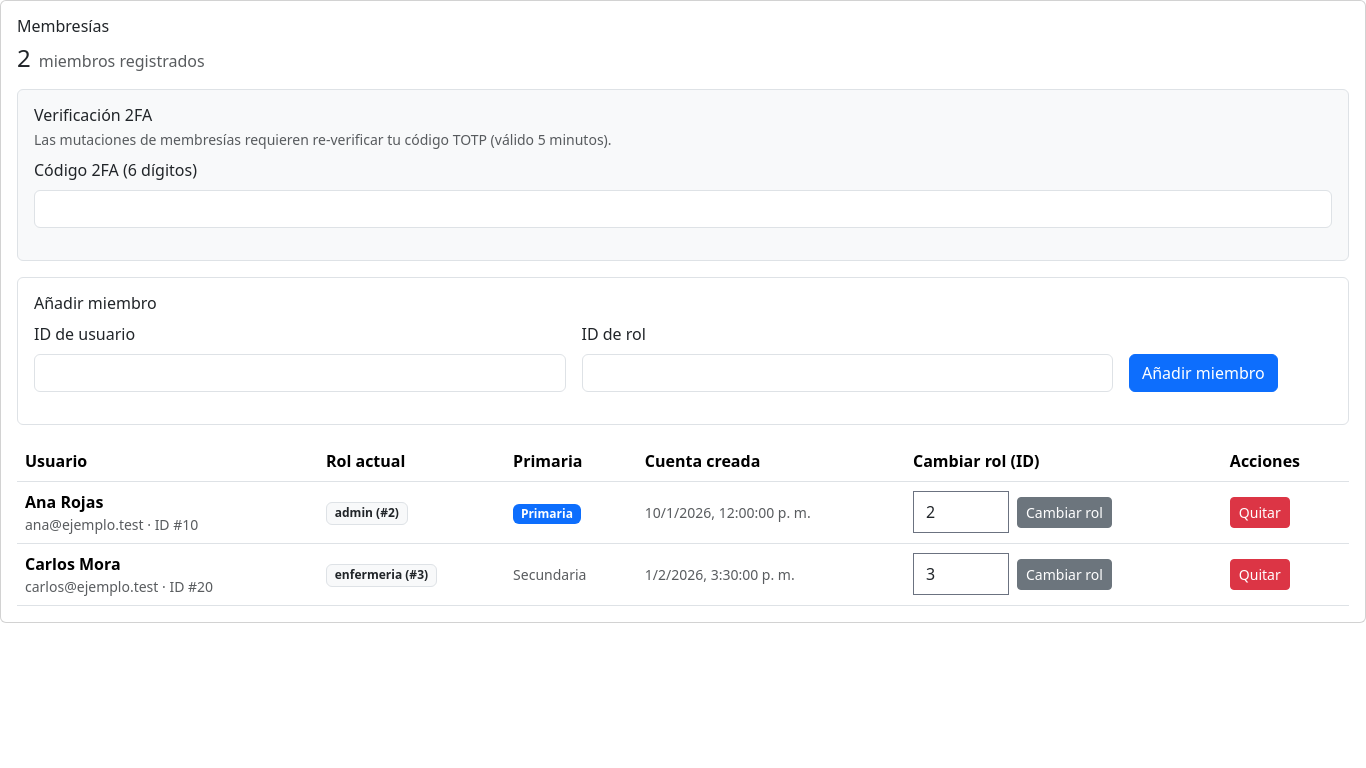
Test: PlatformOrganizationMembersSection › añade un miembro solicitando step-up 2FA cuando no hay token activo
The width and height of the screenshot is (1366, 768).
Expected: the text "Ana Rojas" is shown, [25,491,103,513]
Type "123456" into the field labelled "Código 2FA" at (683, 209), box [34,190,1332,228]
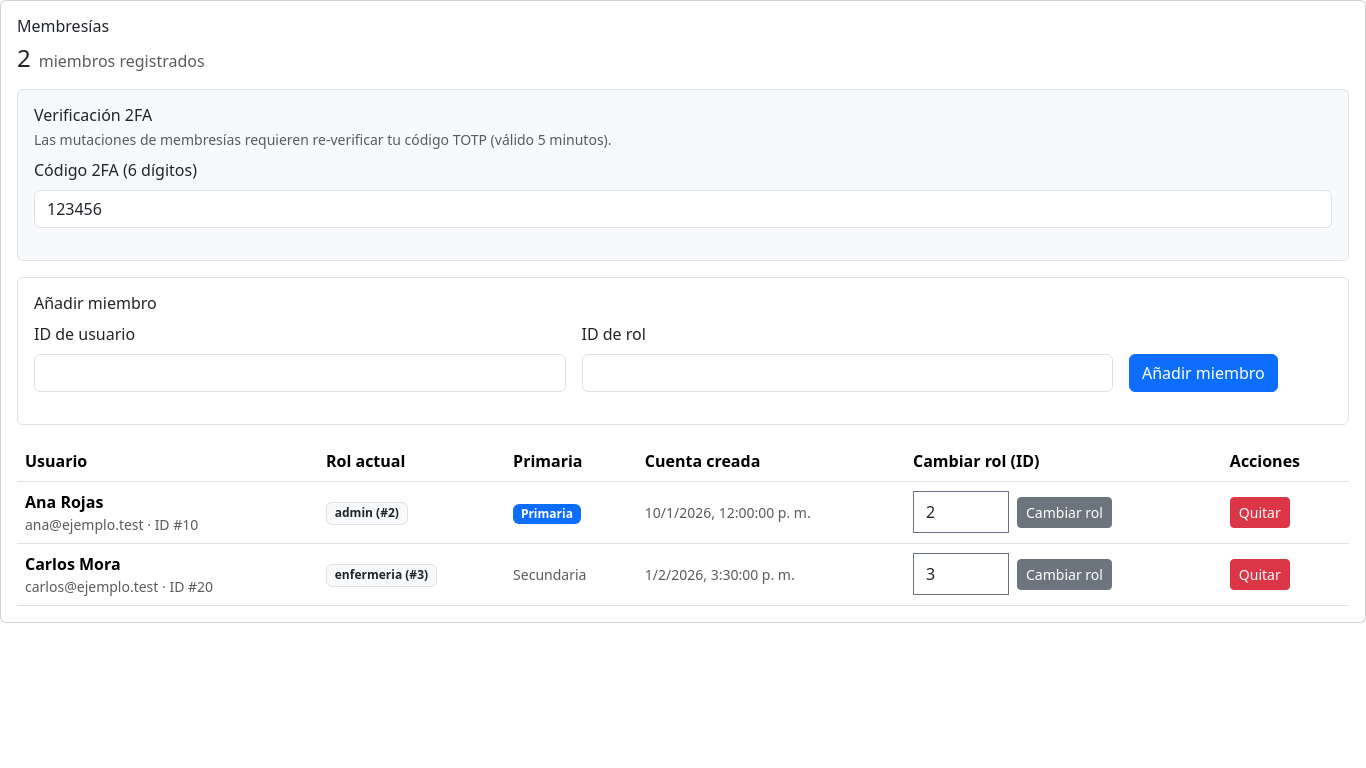
Type "30" into the field labelled "ID de usuario" at (300, 373), box [34,354,566,392]
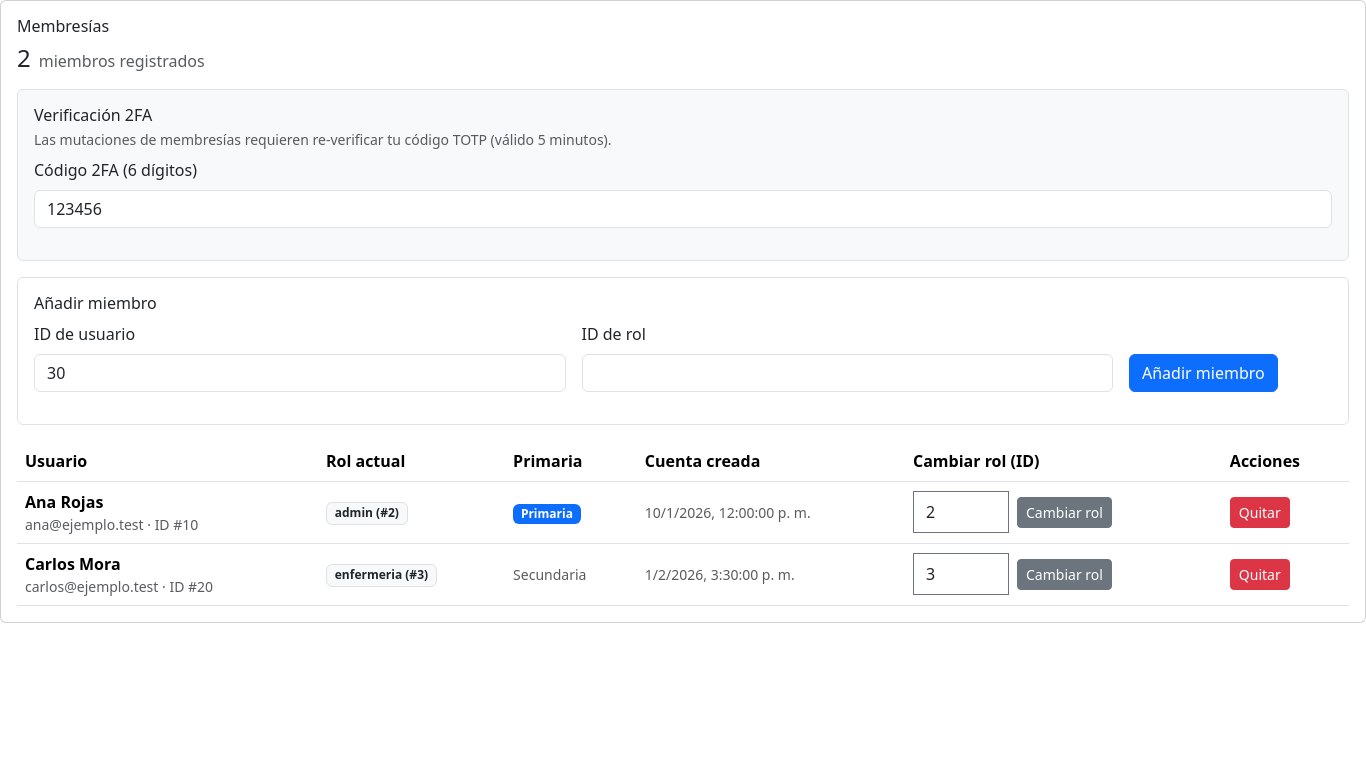
Type "4" into the field labelled "ID de rol" at (847, 373), box [582,354,1113,392]
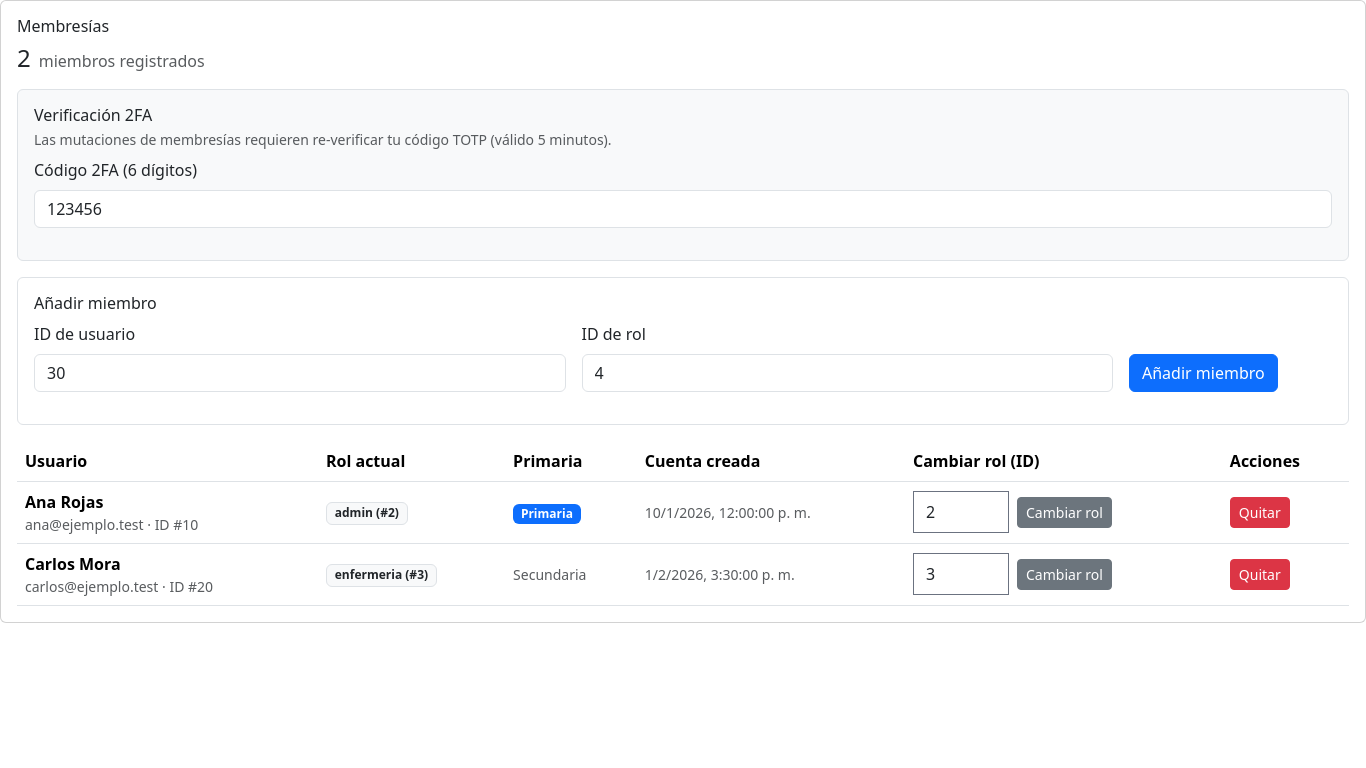
Click the button "Añadir miembro" at (1203, 373), box [1129,354,1278,392]
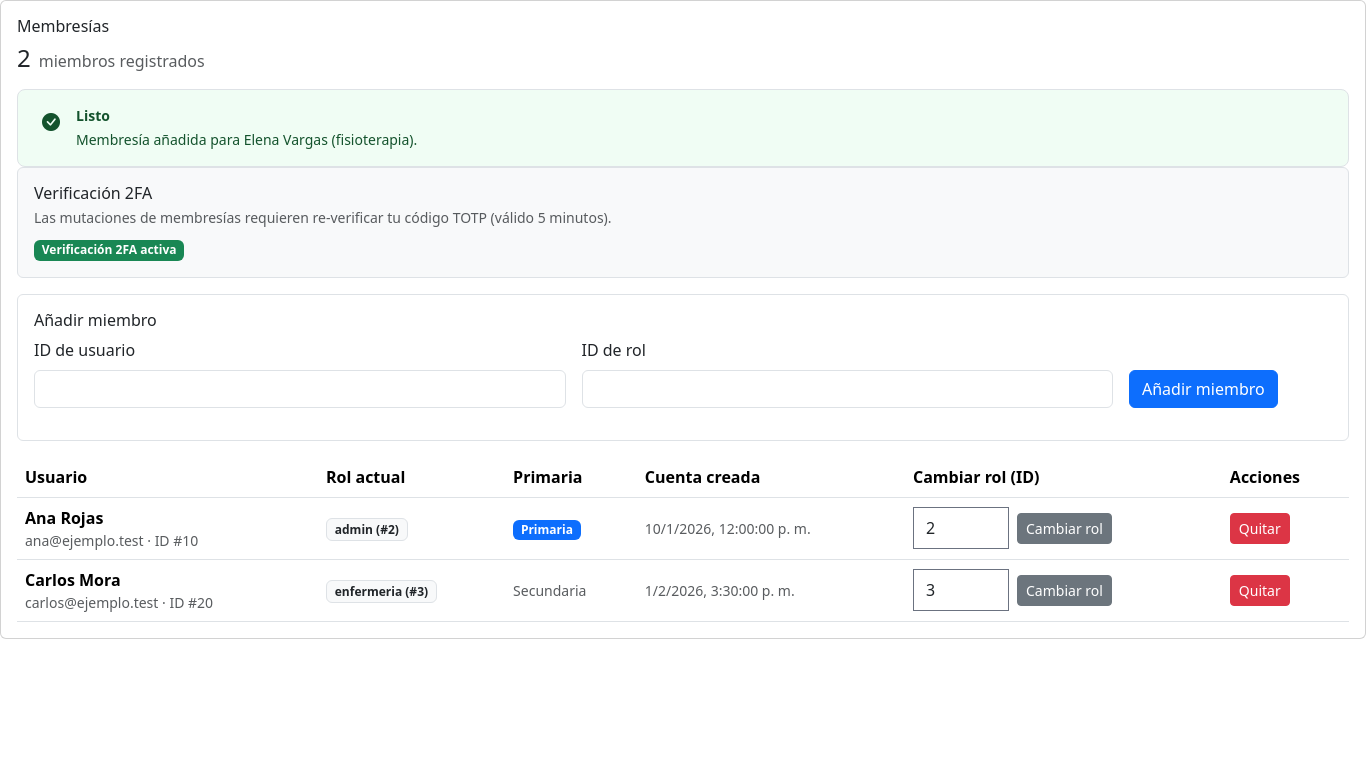
Result: the text "Membresía añadida para Elena Vargas (fisioterapia)." is shown at [76,130,417,149]
